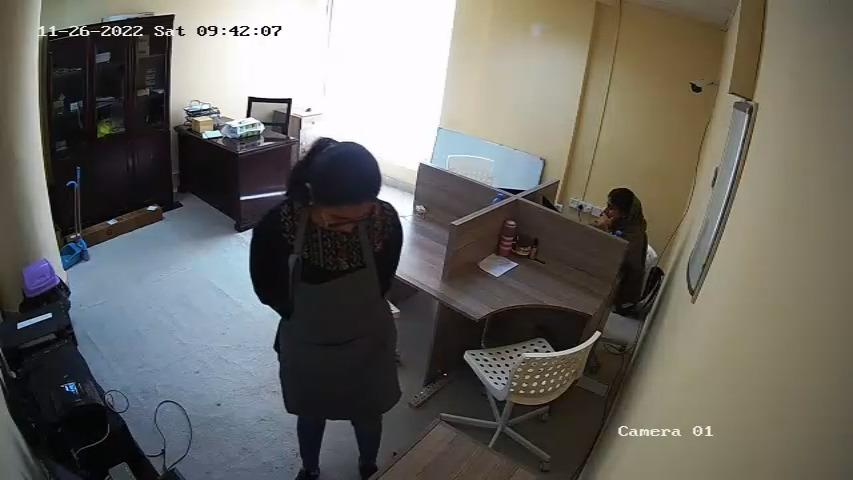apron: (283, 236, 381, 411)
